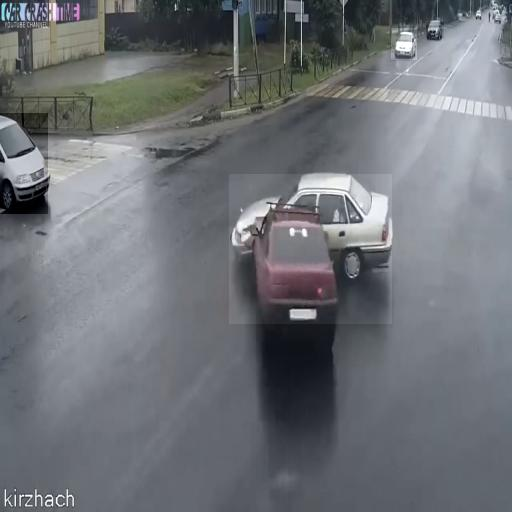小汽车: (0, 113, 48, 214), (391, 28, 417, 60), (426, 22, 444, 38)
小汽车撞小汽车: (229, 174, 392, 324)
